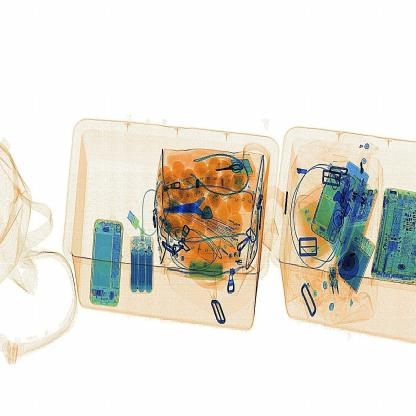gun: (165, 186, 228, 232)
